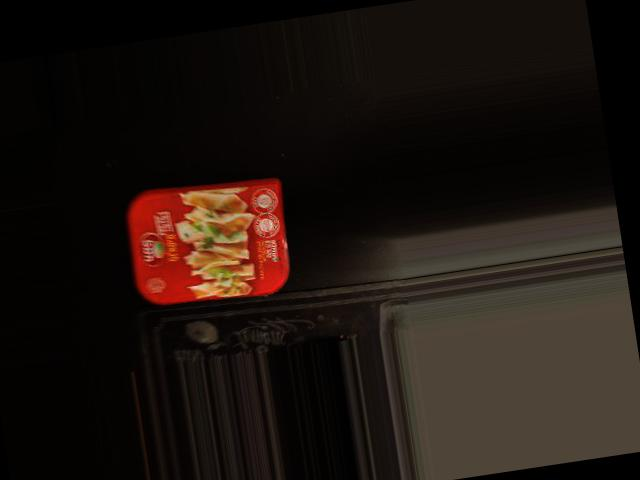cheese: (118, 168, 293, 314)
